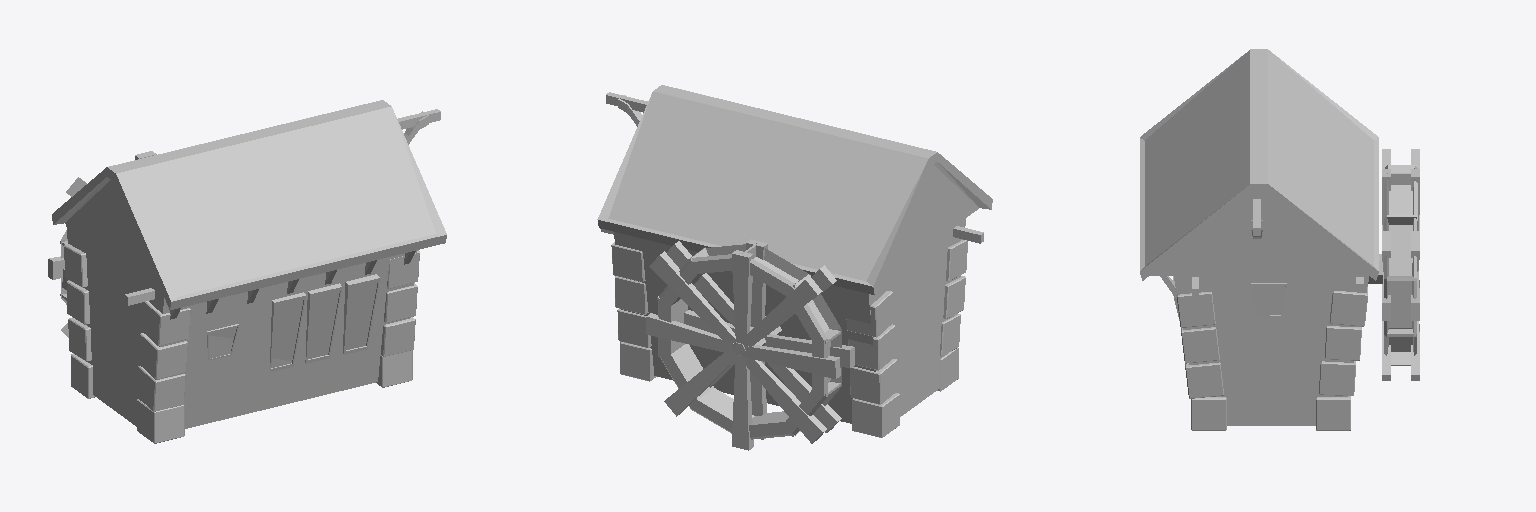
The model's file is house.obj.
3 views of the same model, side by side, from view 1: azimuth 30°, elevation 25°; view 2: azimuth 150°, elevation 25°; view 3: azimuth 270°, elevation 25° (orthographic).
Visible parts, largest first — view 1: pCube618; view 2: pCube618; view 3: pCube618.
Part boxes in pixels (x1,y1,x2,y2): pCube618: (48, 100, 446, 443); pCube618: (597, 85, 992, 450); pCube618: (1140, 49, 1419, 430).
Size of the model in its own units: 11.14 by 8.1 by 7.87.